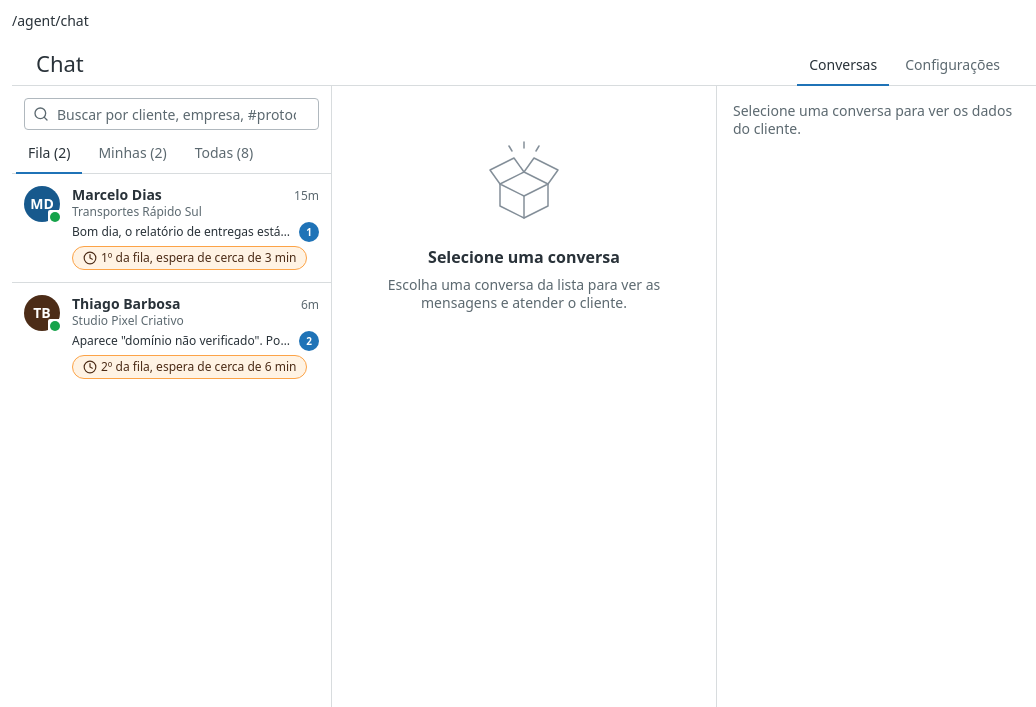
Test: lista de conversas › Minhas e Todas listam o que o backend devolve; Todas filtra por status
This screenshot has width=1036, height=707.
What coordinates should you click on to do the following:
click the tab "Minhas (2)"
I would click on:
 (133, 154)
Its box is [86,134,179,174].
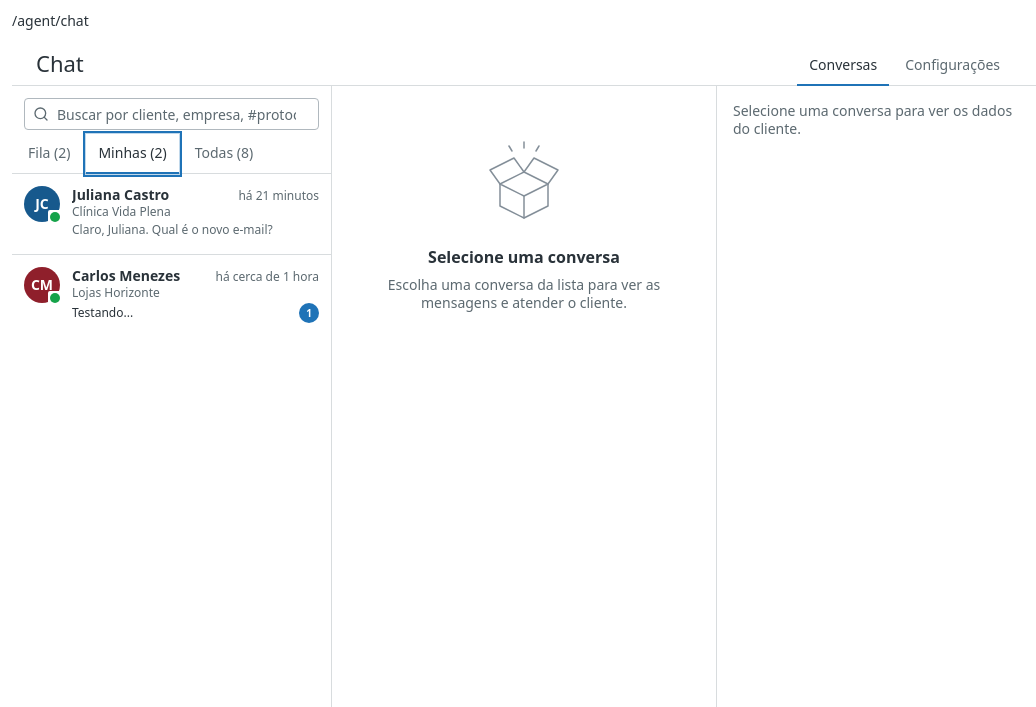
Check: the number of list items is 2, box [12,174,331,254]; [12,254,331,339]
What coordinates should you click on to do the following:
click the tab "Todas (8)"
I would click on:
 (224, 154)
Its box is [183,134,265,174].
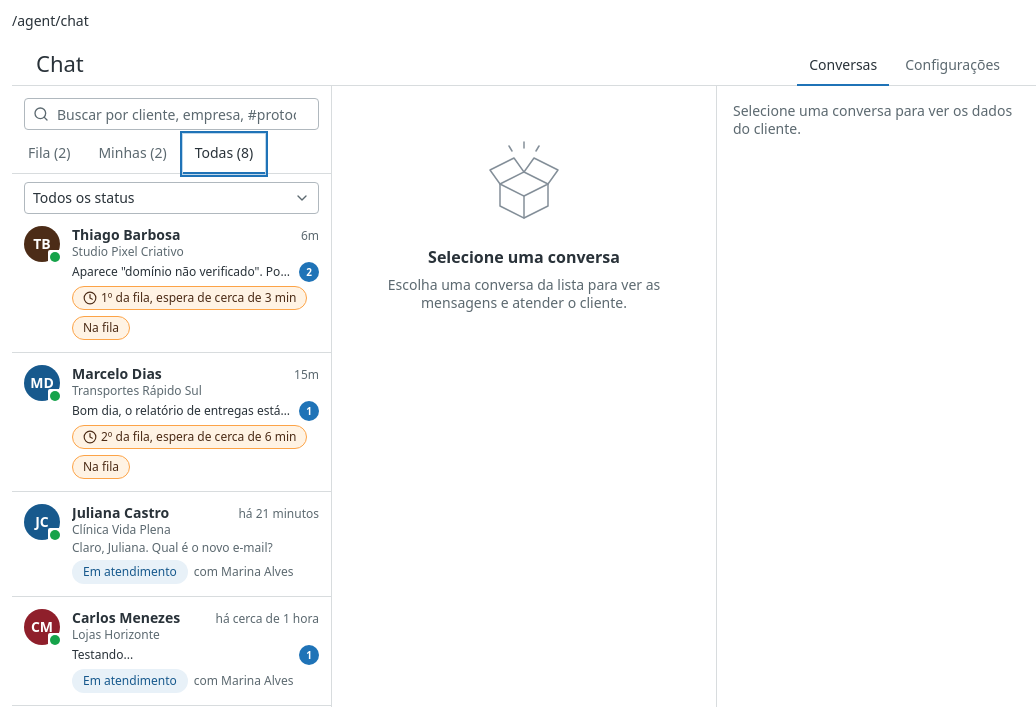
What coordinates should you click on to do the following:
click the dropdown named "Status da conversa"
I would click on:
 (84, 198)
Its box is [24,182,319,214].
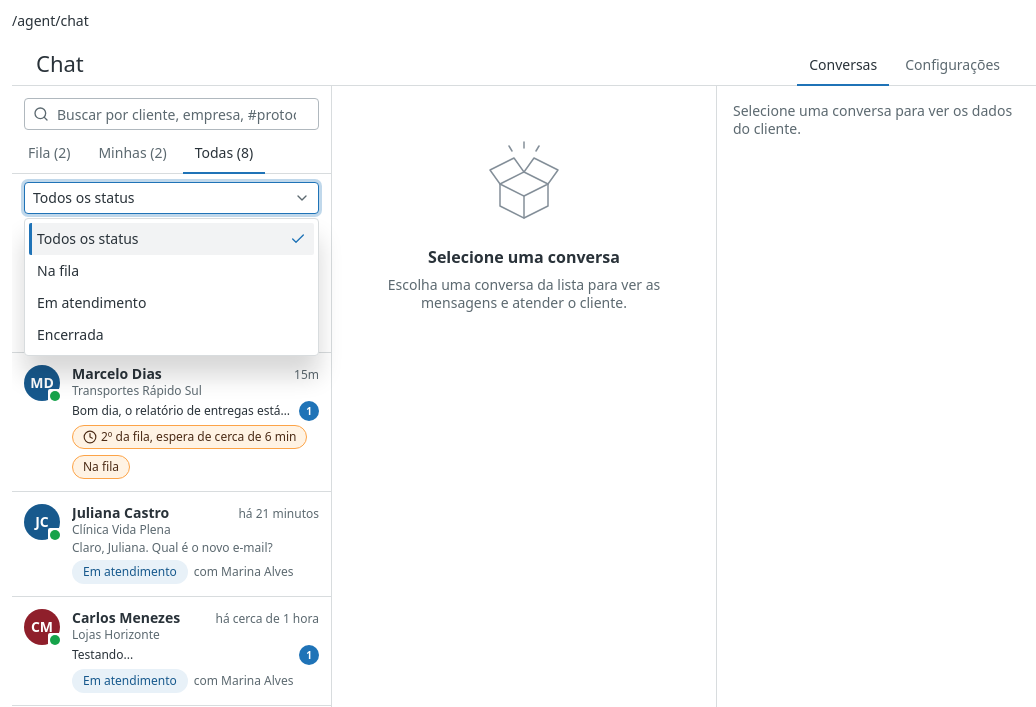
What coordinates should you click on to do the following:
click the option "Encerrada"
I would click on:
 (70, 334)
Its box is [37,325,104,344].
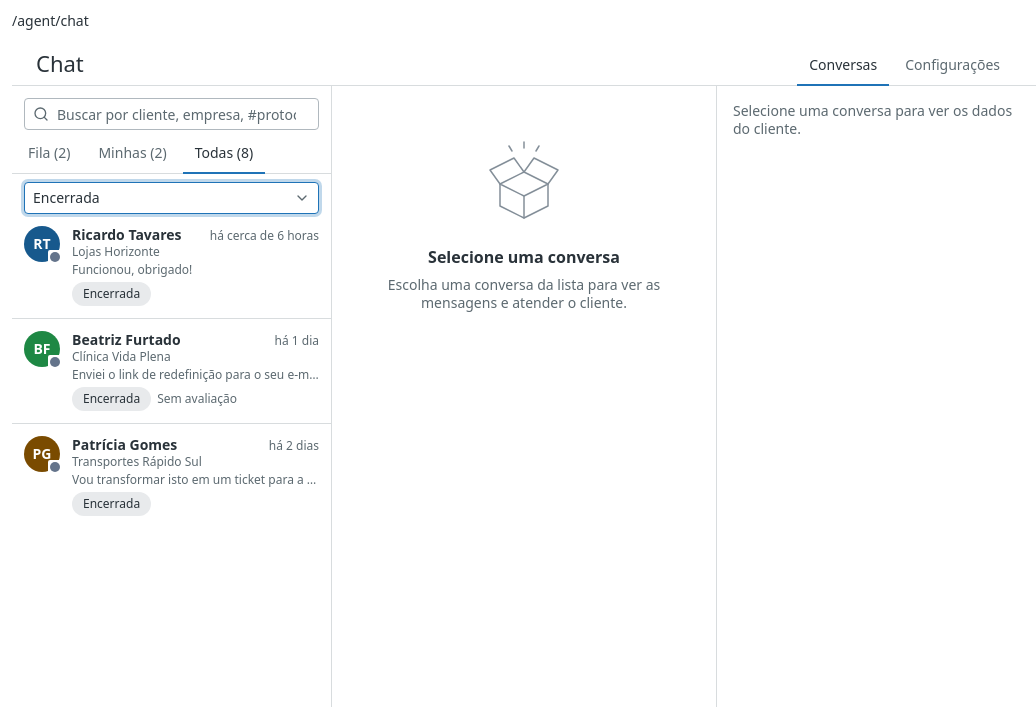
Check: the number of list items is 3, box [12,214,331,318]; [12,318,331,423]; [12,423,331,528]
